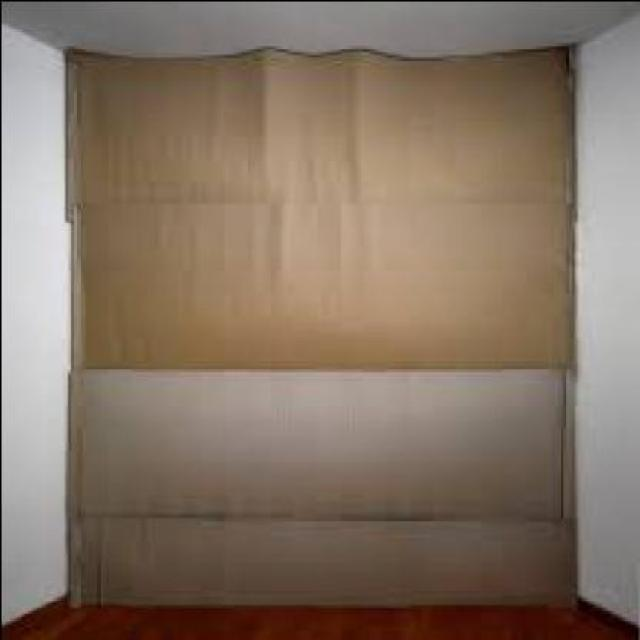CARDBOARD: (67, 37, 579, 603)
